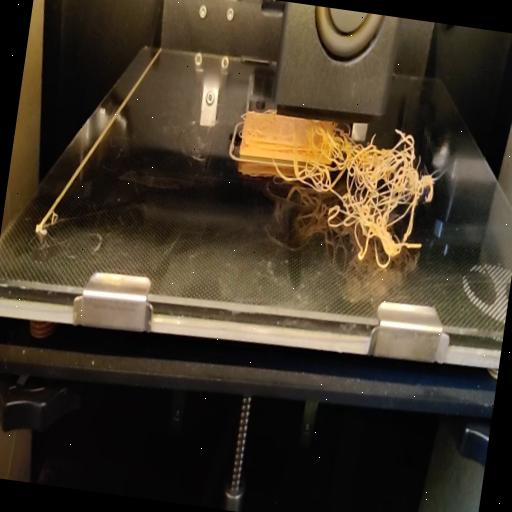spaghetti: (277, 114, 446, 280)
